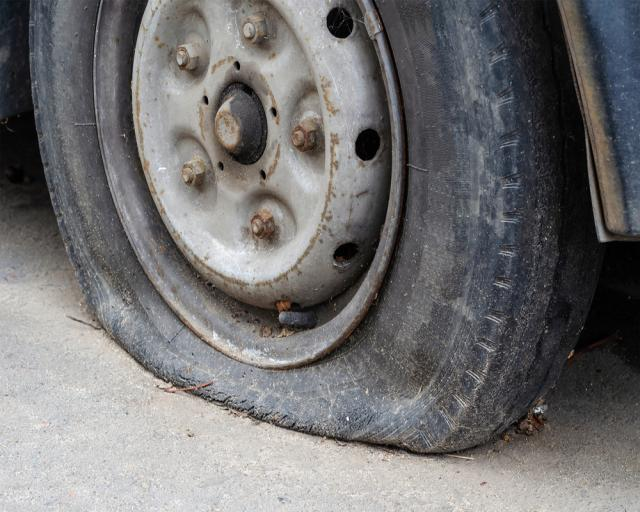tire flat: (30, 0, 603, 455)
